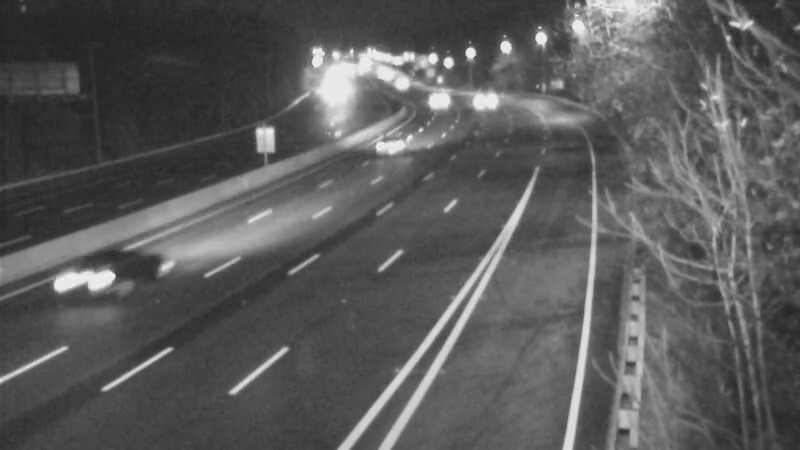vehicle: (54, 233, 134, 313), (366, 54, 416, 104), (413, 72, 463, 122), (459, 70, 509, 120), (362, 115, 412, 165), (310, 68, 360, 118)
